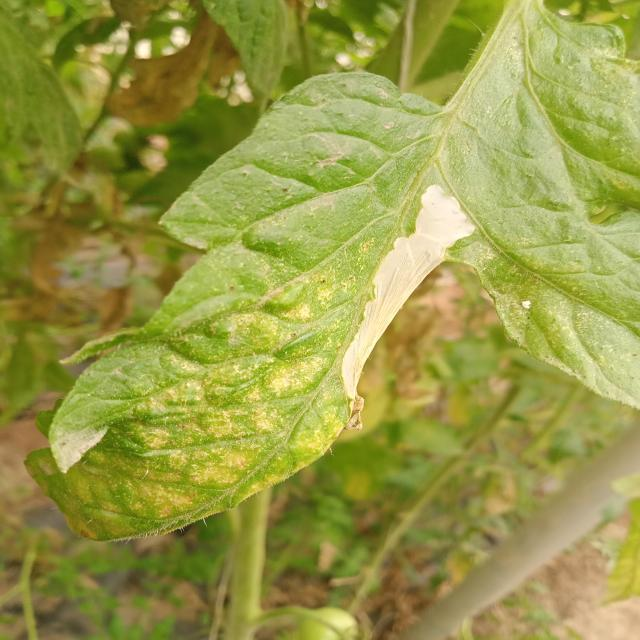Tuta absoluta: (308, 181, 484, 405)
